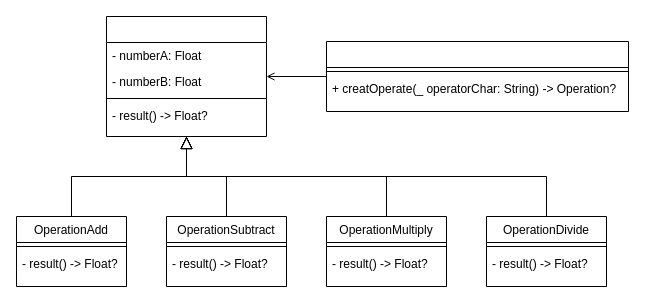
Some shapes in this 645 by 303 pixel diagram are drawn without their labels. Each missing label, with the box of its shape:
Operation: (106, 16, 266, 136)
OperationFactory: (326, 40, 628, 112)
